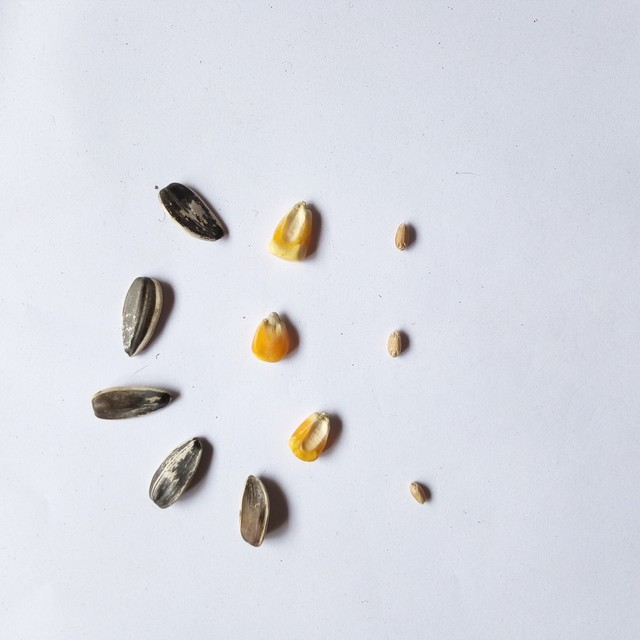girasol: (146, 432, 210, 513), (116, 271, 172, 360), (153, 179, 226, 243), (85, 379, 181, 420), (233, 469, 274, 554)
maiz: (263, 195, 323, 266), (286, 408, 341, 466), (246, 310, 298, 366)
trigo: (384, 324, 412, 362), (392, 219, 418, 253), (405, 477, 436, 505)
